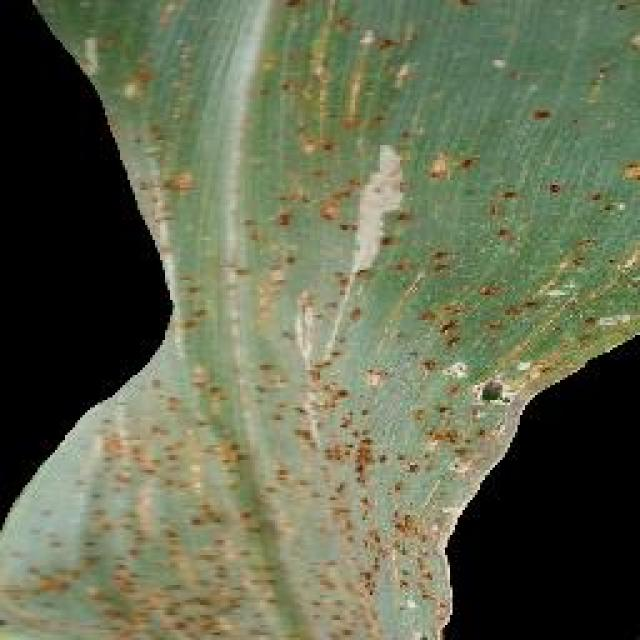Corn Common Rust: (123, 205, 467, 580)
